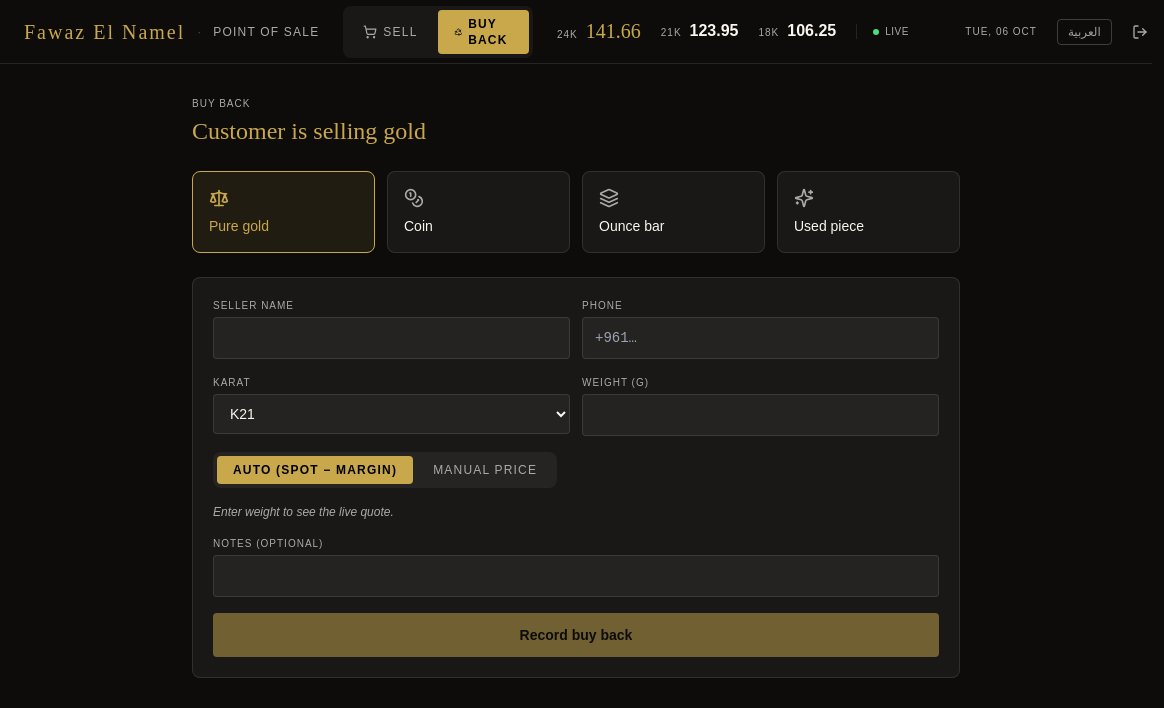
Scenario: POS buyback — what is sent is unchanged › the quote card shows the server's figures untouched
Type "5" into the number field labelled "Weight (g)".
click(760, 415); type("5")  # box [582,394,939,436]
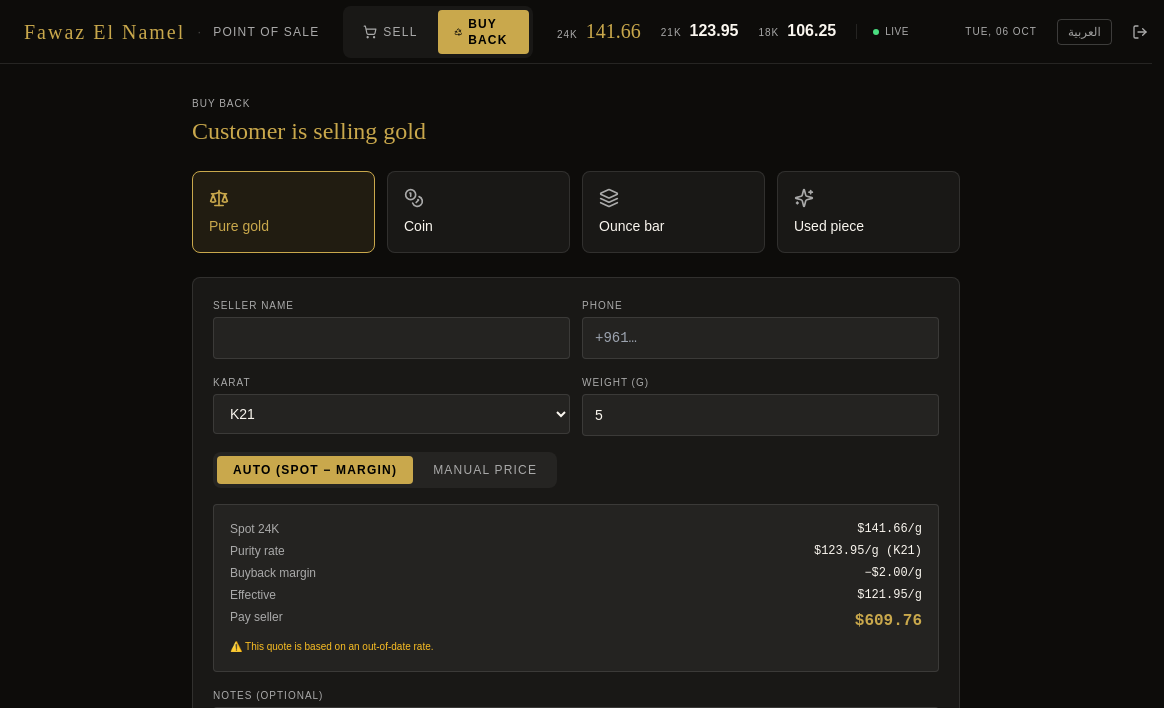
Expected: the text "$141.66/g" is shown, [857,521,922,537]
Expected: the text "$123.95/g (K21)" is shown, [814,543,922,559]
Expected: the text "−$2.00/g" is shown, [864,565,922,581]
